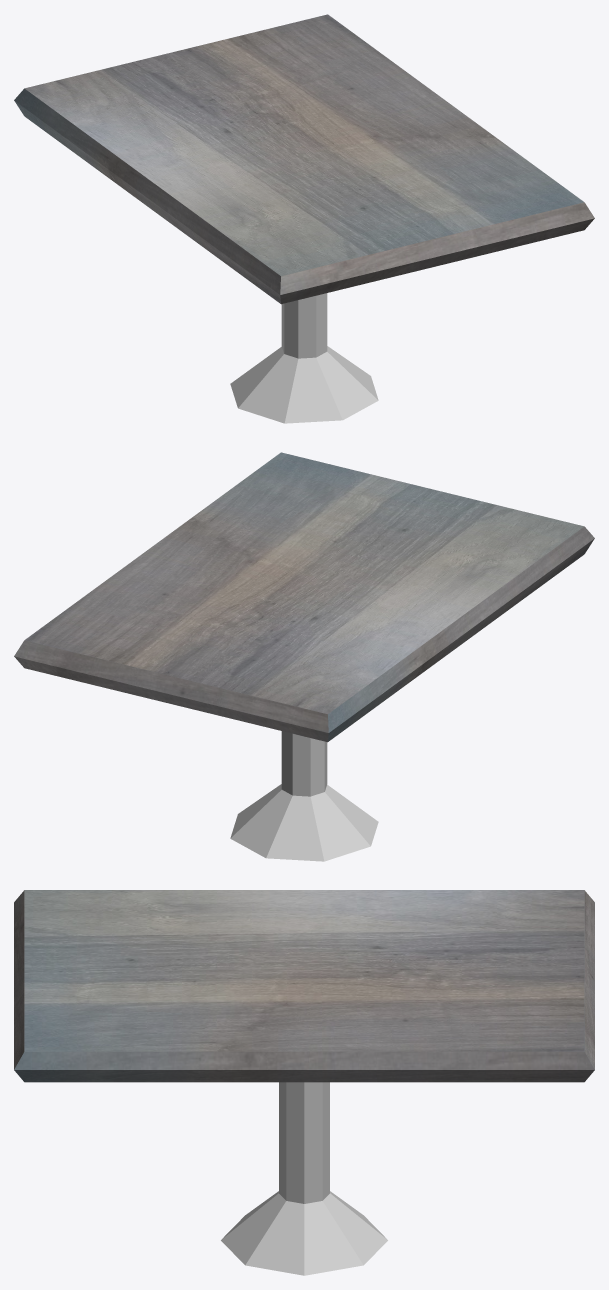
The model's file is Masa.fbx.
3 views of the same model, one above another, from view 1: azimuth 30°, elevation 25°; view 2: azimuth 150°, elevation 25°; view 3: azimuth 270°, elevation 25° (orthographic). The views are drawn at different scales.
Parts seen in each view (by area): view 1: Cube; view 2: Cube; view 3: Cube.
Boxes of the visible parts, <box> form: Cube: <box>14,14,594,423</box>; Cube: <box>14,452,594,861</box>; Cube: <box>14,890,594,1275</box>.
Size of the model in its own units: 283 by 212 by 415.
